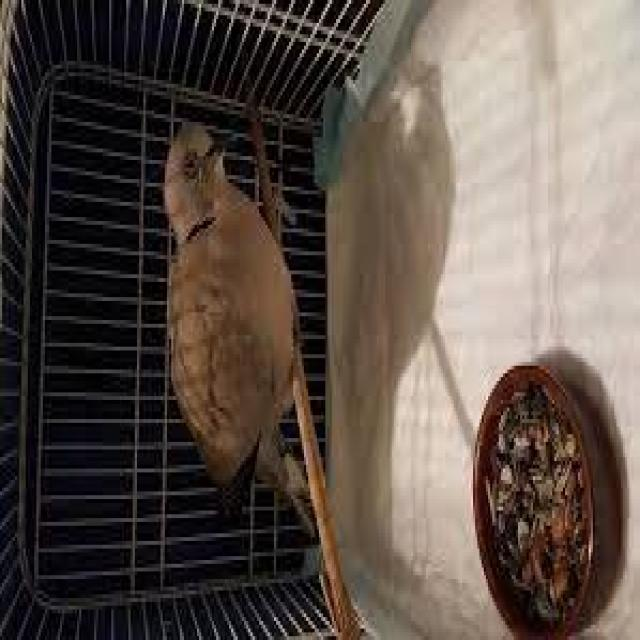pigeon: (145, 102, 308, 521)
